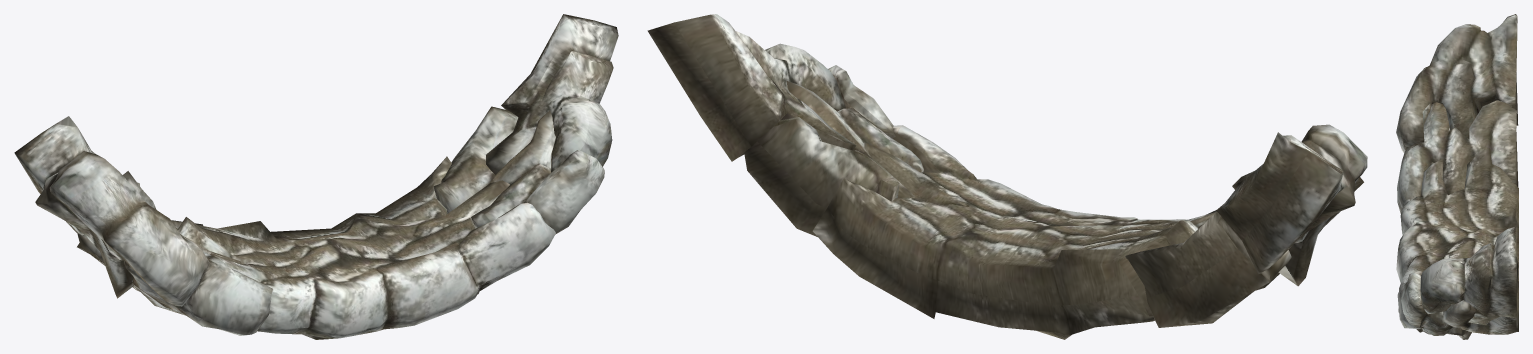
Rendered from military_sandbag_snow_curvedsection.glb.
The picture shows the model from 3 angles, left to right: view 1: azimuth 30°, elevation 25°; view 2: azimuth 150°, elevation 25°; view 3: azimuth 270°, elevation 25°; orthographic projection. The views are drawn at different scales.
Size of the model in its own units: 154 by 59 by 33.53.
1 material, 1 textured.
